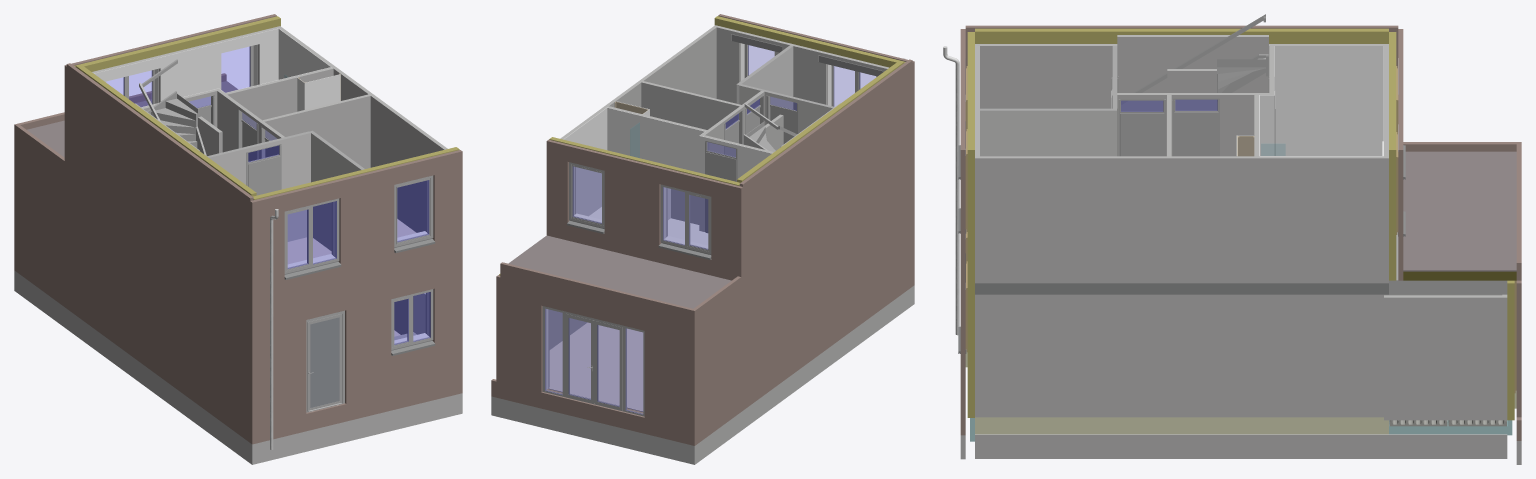
3 renders of one model, left to right at view 1: azimuth 30°, elevation 25°; view 2: azimuth 150°, elevation 25°; view 3: azimuth 270°, elevation 25°, orthographic. The views are drawn at different scales.
Visible parts, largest first — view 1: 332343421_metselwerk_oranje_100, 332240221_metselwerk_oranje_100, 332240121_metselwerk_oranje_100, 332343321_metselwerk_oranje_100, 332433321_metselwerk_oranje_100, 332342821_kalkzandsteen_100, 332394842_tegelwand_150x150x10, 332255321_kalkzandsteen_100, 332374022_kalkzandsteen_100, 332255021_kalkzandsteen_100, 332255621_metselwerk_oranje_100, 332255721_metselwerk_oranje_100 (+33 smaller); view 2: 332343421_metselwerk_oranje_100, 332240221_metselwerk_oranje_100, 332343521_metselwerk_oranje_100, 332428721_metselwerk_oranje_100, 333377847_Grindlaag_30, 332433321_metselwerk_oranje_100, 332394642_tegelwand_150x150x10, 332342721_kalkzandsteen_100, 332433921_kalkzandsteen_100, 332342821_kalkzandsteen_100, 332433821_metselwerk_oranje_100, 3324305buitendraaiend_alcoa (+34 smaller); view 3: 332342821_kalkzandsteen_100, 332239521_kalkzandsteen_100, 332342921_kalkzandsteen_100, 332254721_kalkzandsteen_100, 333377847_Grindlaag_30, 332394942_tegelwand_150x150x10, 332255121_kalkzandsteen_100, 333394723_kanaalplaatvloer_260, 332374222_MS_125_75_125_100, 332343221_isolatie_mineraal_150, 332390023_breedplaatvloer_plaatdikte=50_200, 332436221_kalkzandsteen_100 (+29 smaller).
Part boxes in pixels (left/top/right/bottom): 332343421_metselwerk_oranje_100: left=66, top=63, right=253, bottom=311; 332240221_metselwerk_oranje_100: left=66, top=178, right=250, bottom=425; 332240121_metselwerk_oranje_100: left=250, top=262, right=462, bottom=426; 332343321_metselwerk_oranje_100: left=250, top=150, right=462, bottom=313; 332433321_metselwerk_oranje_100: left=16, top=141, right=66, bottom=290; 332342821_kalkzandsteen_100: left=279, top=27, right=447, bottom=232; 332394842_tegelwand_150x150x10: left=94, top=28, right=278, bottom=107; 332255321_kalkzandsteen_100: left=250, top=393, right=462, bottom=464; 332374022_kalkzandsteen_100: left=263, top=94, right=370, bottom=168; 332255021_kalkzandsteen_100: left=66, top=309, right=250, bottom=462; 332255621_metselwerk_oranje_100: left=250, top=376, right=462, bottom=444; 332255721_metselwerk_oranje_100: left=66, top=291, right=250, bottom=442; 332343421_metselwerk_oranje_100: left=739, top=59, right=912, bottom=289; 332240221_metselwerk_oranje_100: left=743, top=165, right=912, bottom=394; 332343521_metselwerk_oranje_100: left=546, top=139, right=742, bottom=289; 332428721_metselwerk_oranje_100: left=504, top=278, right=696, bottom=429; 333377847_Grindlaag_30: left=508, top=235, right=731, bottom=308; 332433321_metselwerk_oranje_100: left=696, top=290, right=742, bottom=427; 332394642_tegelwand_150x150x10: left=607, top=107, right=704, bottom=224; 332342721_kalkzandsteen_100: left=713, top=25, right=888, bottom=110; 332433921_kalkzandsteen_100: left=491, top=396, right=696, bottom=464; 332342821_kalkzandsteen_100: left=560, top=26, right=716, bottom=139; 332433821_metselwerk_oranje_100: left=491, top=379, right=696, bottom=445; 3324305buitendraaiend_alcoa: left=569, top=318, right=619, bottom=406; 332342821_kalkzandsteen_100: left=980, top=156, right=1383, bottom=283; 332239521_kalkzandsteen_100: left=980, top=294, right=1383, bottom=417; 332342921_kalkzandsteen_100: left=980, top=35, right=1383, bottom=111; 332254721_kalkzandsteen_100: left=1384, top=295, right=1502, bottom=420; 333377847_Grindlaag_30: left=1403, top=151, right=1516, bottom=271; 332394942_tegelwand_150x150x10: left=1274, top=46, right=1383, bottom=155; 332255121_kalkzandsteen_100: left=980, top=434, right=1383, bottom=458; 333394723_kanaalplaatvloer_260: left=975, top=417, right=1388, bottom=434; 332374222_MS_125_75_125_100: left=980, top=108, right=1116, bottom=156; 332343221_isolatie_mineraal_150: left=975, top=28, right=1388, bottom=43; 332390023_breedplaatvloer_plaatdikte=50_200: left=975, top=283, right=1388, bottom=294; 332436221_kalkzandsteen_100: left=1384, top=434, right=1502, bottom=458.
Size of the model in its own units: 6.08 by 7.86 by 11.74.
